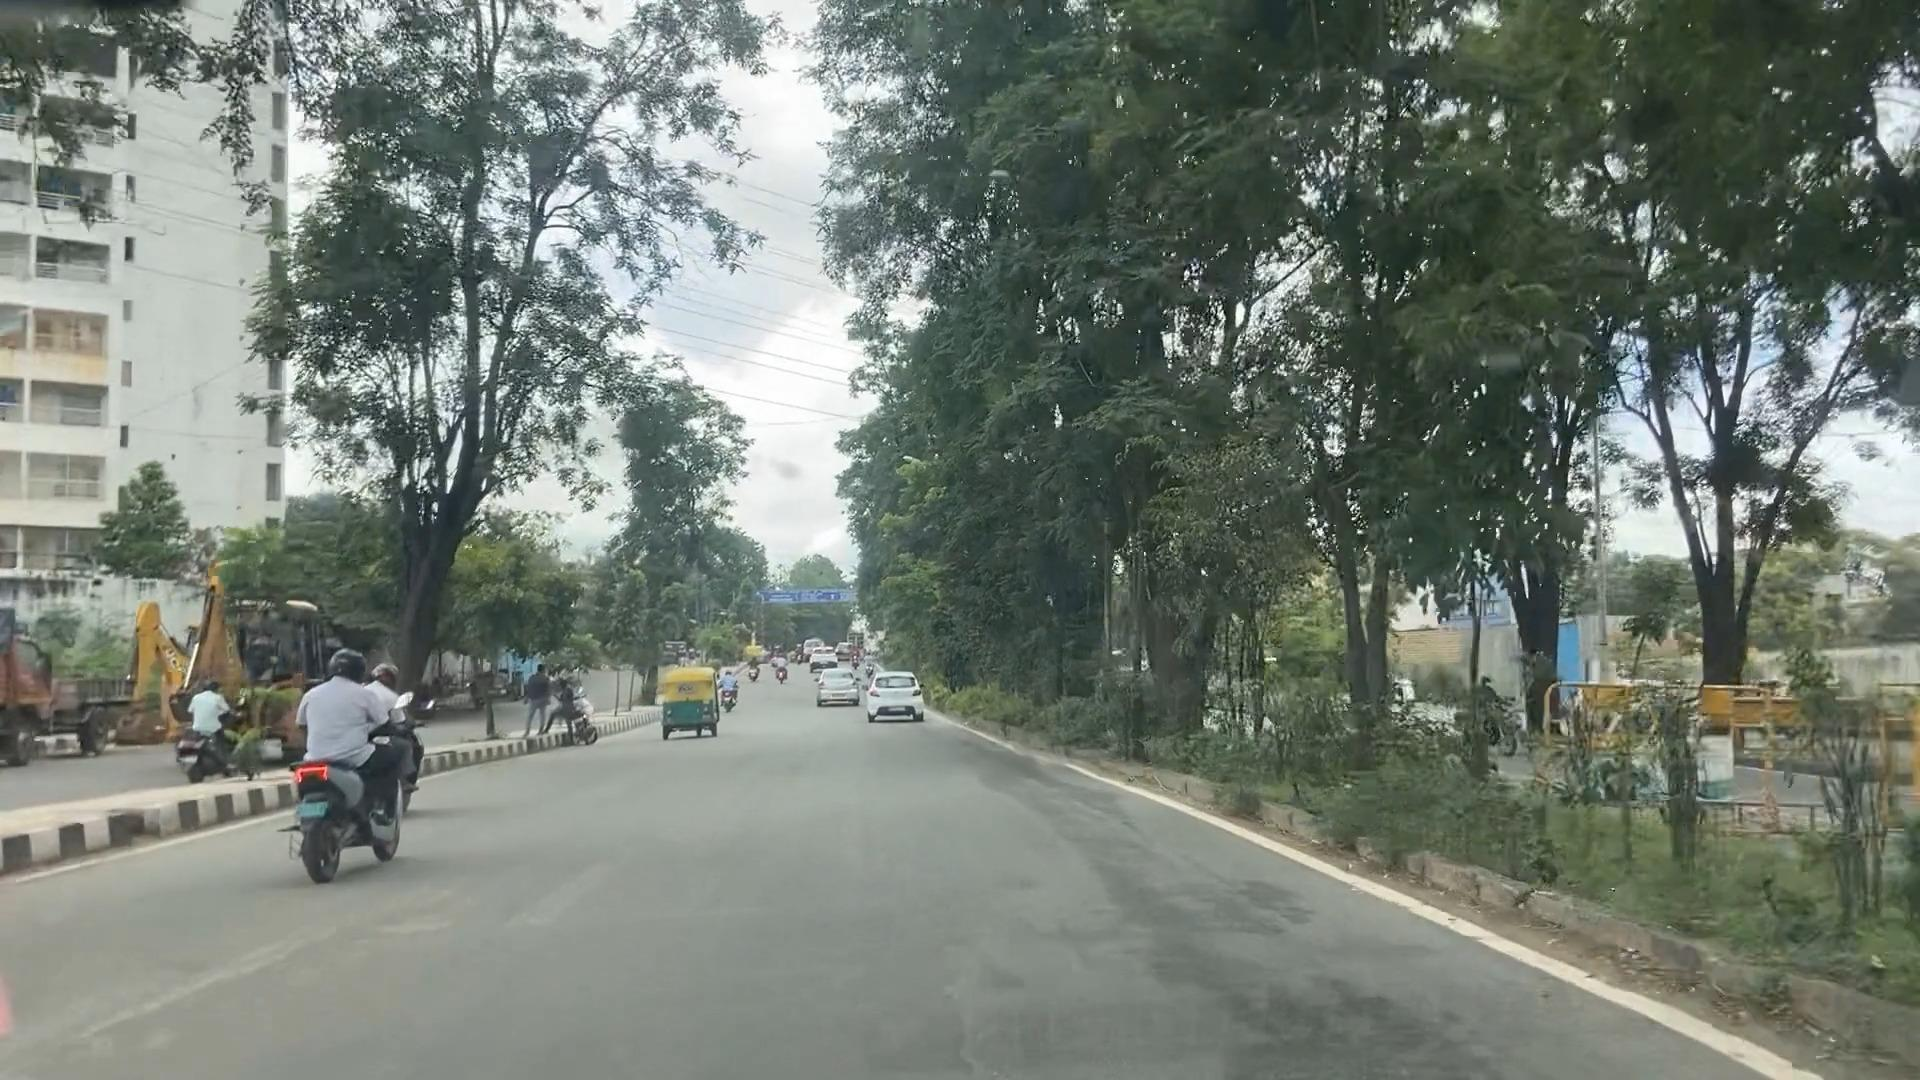LMV: (299, 650, 400, 856), (665, 658, 719, 737), (868, 669, 922, 721), (816, 669, 857, 712)
RoadDamages: (1122, 851, 1296, 967), (1230, 1006, 1497, 1079), (944, 738, 1048, 820), (167, 936, 316, 993), (380, 902, 463, 959)
